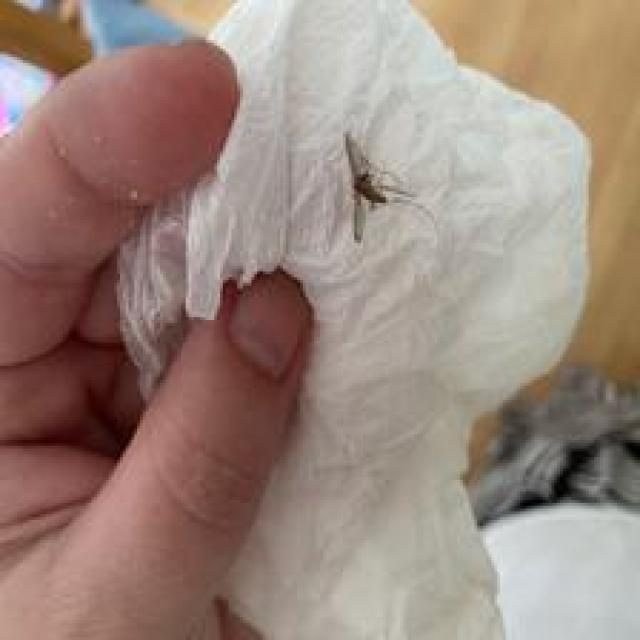Culex: (340, 130, 434, 244)
